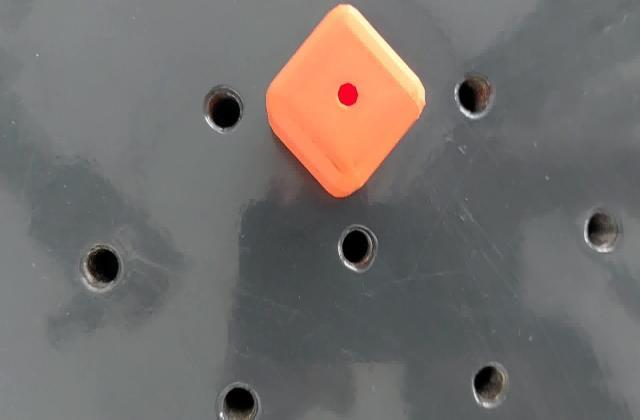cube: (264, 2, 426, 202)
